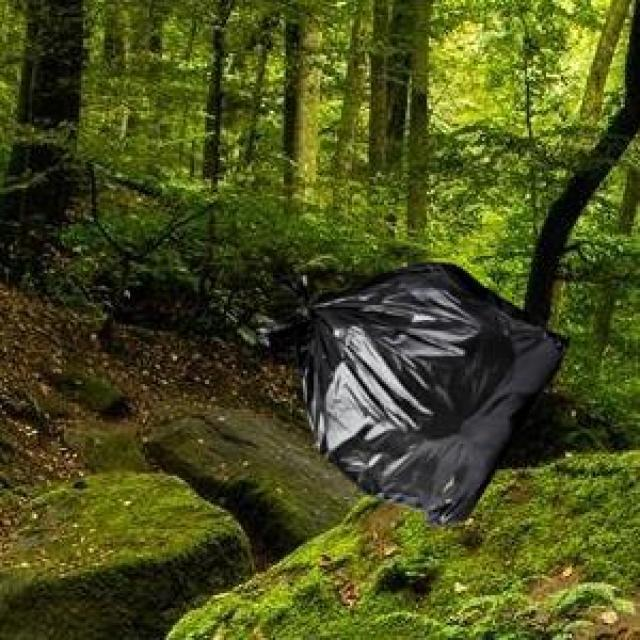miscellaneous trash: (250, 258, 565, 523)
